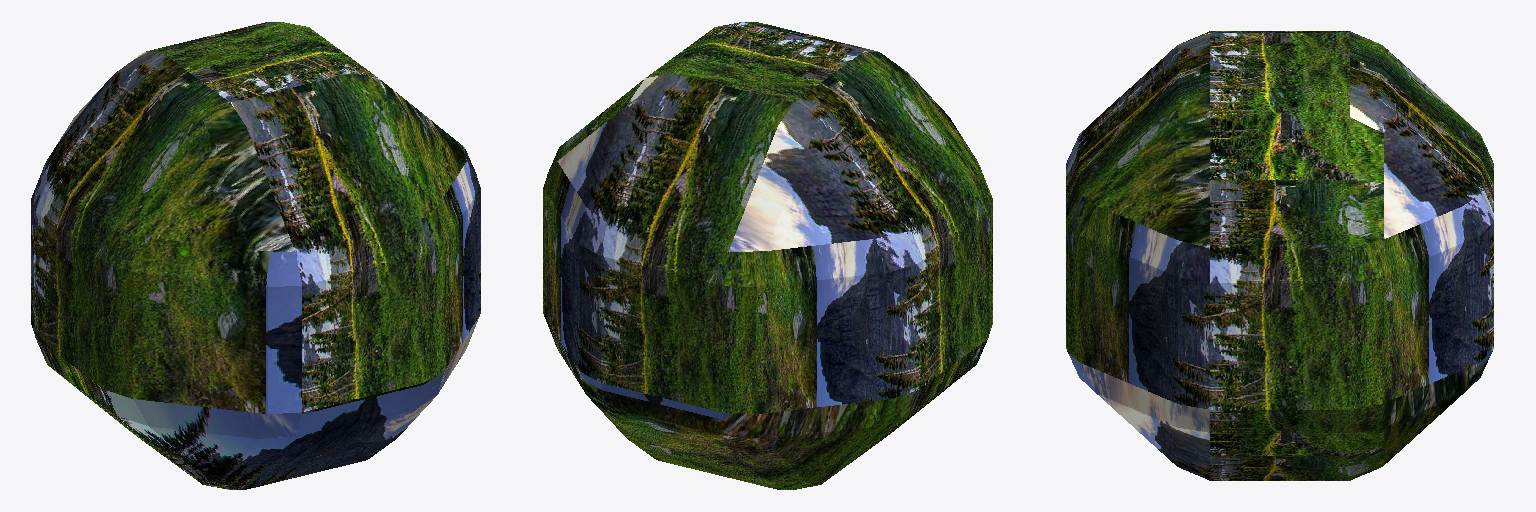
The picture shows the model from 3 angles: view 1: azimuth 30°, elevation 25°; view 2: azimuth 150°, elevation 25°; view 3: azimuth 270°, elevation 25°; orthographic projection.
Parts seen in each view (by area): view 1: Cube; view 2: Cube; view 3: Cube.
Boxes of the visible parts, <box> form: Cube: <box>31,22,480,489</box>; Cube: <box>543,22,992,489</box>; Cube: <box>1066,31,1493,480</box>.
Size of the model in its own units: 2 by 2 by 2.
Materials: 1 (1 with a texture image).